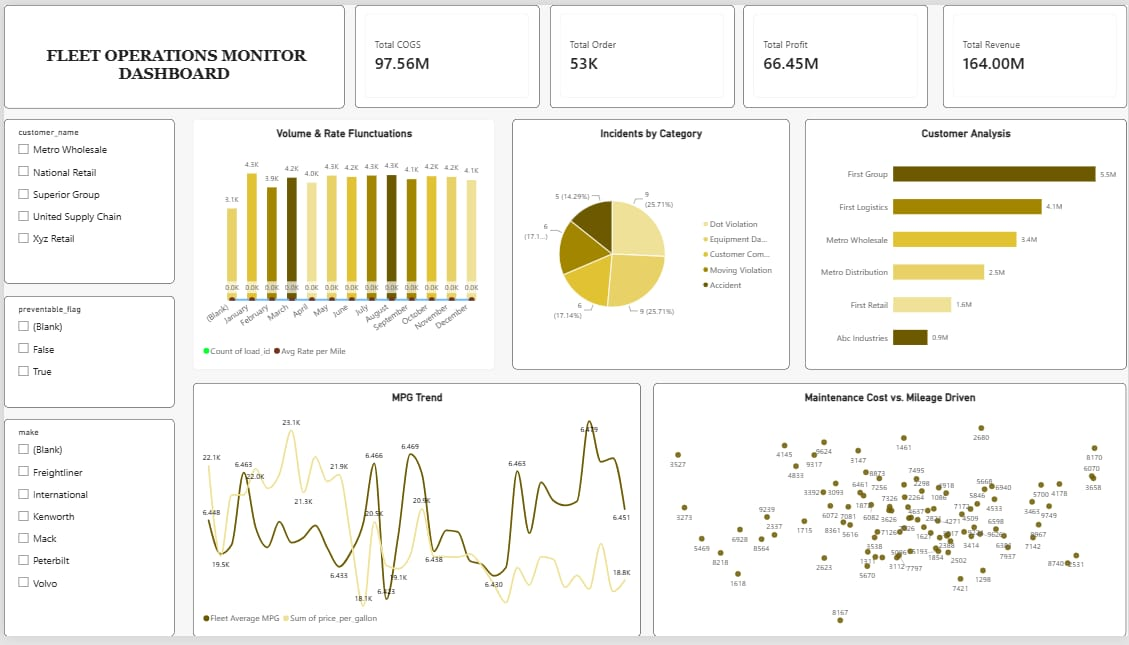

What the dashboard file says about the page in this screenshot:
{"tool":"powerbi","page":{"name":"Page 1","canvas":[1920,1080],"ordinal":0},"visuals":[{"type":"lineChart","title":"MPG Trend","fields":{"Category":["trips.dispatch_date.Variation.Date Hierarchy.Year","trips.dispatch_date.Variation.Date Hierarchy.Month"],"Y":["trips.Fleet Average MPG"],"Y2":["Sum(fuel_purchases.price_per_gallon)"]},"box":[323.2,646.3,765.4,433.7],"z":0},{"type":"clusteredBarChart","title":"Customer Analysis","fields":{"Category":["customers (1).customer_name"],"Y":["Sum(loads.revenue)"]},"box":[1369.1,195.6,549.9,428],"z":1},{"type":"lineStackedColumnComboChart","title":"Volume & Rate Flunctuations","fields":{"Category":["trips.dispatch_date.Variation.Date Hierarchy.Month"],"Y":["CountNonNull(loads.load_id)"],"Y2":["trips.Avg Rate per Mile"]},"box":[323.2,195.6,515.9,428],"z":2},{"type":"scatterChart","title":"Maintenance Cost vs. Mileage Driven","fields":{"Category":["trucks.unit_number"],"X":["Sum(trips.actual_distance_miles)"],"Y":["maintenance_records.Total Maintenance Cost"]},"box":[1111.2,646.3,807.9,433.7],"z":3},{"type":"pieChart","title":"Incidents by Category","fields":{"Category":["safety_incidents (1).incident_type"],"Y":["safety_incidents (1).Total Incidents"]},"box":[870.2,195.6,473.4,428],"z":4},{"type":"cardVisual","fields":{"Data":["loads.Total Revenue"]},"box":[1604.4,0,314.6,175.7],"z":5},{"type":"cardVisual","fields":{"Data":["loads.Total Profit"]},"box":[1264.3,0,315,176],"z":6},{"type":"cardVisual","fields":{"Data":["loads.Total Order"]},"box":[932.6,0,315,176],"z":7},{"type":"cardVisual","fields":{"Data":["maintenance_records.Total COGS"]},"box":[598.9,0,315,176],"z":8},{"type":"textbox","box":[0,0,582.2,176.6],"z":9},{"type":"slicer","fields":{"Values":["trucks.make"]},"box":[0,708.6,291.1,372.2],"z":10},{"type":"slicer","fields":{"Values":["safety_incidents (1).preventable_flag"]},"box":[0,498.7,291.1,190.9],"z":11},{"type":"slicer","fields":{"Values":["customers (1).customer_name"]},"box":[0,195.6,291.1,281.5],"z":13}]}

Visuals, with their boxes in screenshot pixels (x1, y1, x2, y2), scaled from the page's 1920x1080 canvas onto the 1129x645 screenshot:
"MPG Trend" lineChart: bbox(190, 386, 640, 644)
"Customer Analysis" clusteredBarChart: bbox(805, 117, 1128, 372)
"Volume & Rate Flunctuations" lineStackedColumnComboChart: bbox(190, 117, 493, 372)
"Maintenance Cost vs. Mileage Driven" scatterChart: bbox(653, 386, 1128, 644)
"Incidents by Category" pieChart: bbox(512, 117, 790, 372)
cardVisual - loads.Total Revenue: bbox(943, 0, 1128, 105)
cardVisual - loads.Total Profit: bbox(743, 0, 929, 105)
cardVisual - loads.Total Order: bbox(548, 0, 734, 105)
cardVisual - maintenance_records.Total COGS: bbox(352, 0, 537, 105)
textbox: bbox(0, 0, 342, 105)
slicer - trucks.make: bbox(0, 423, 171, 644)
slicer - safety_incidents (1).preventable_flag: bbox(0, 298, 171, 412)
slicer - customers (1).customer_name: bbox(0, 117, 171, 285)
